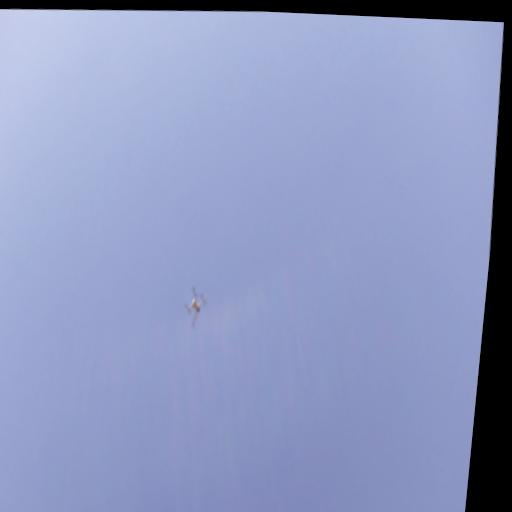drones: (179, 284, 210, 331)
